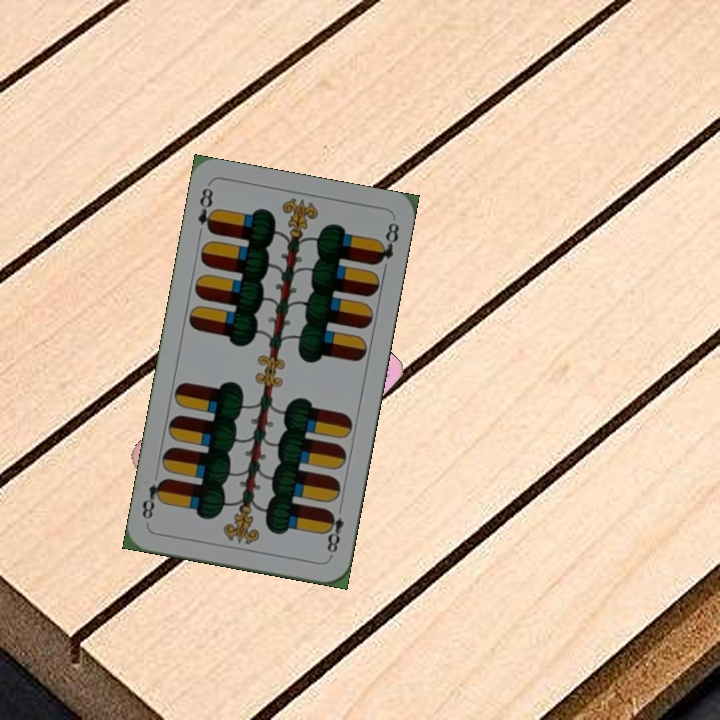E8: (321, 501, 347, 560), (194, 183, 219, 236)
